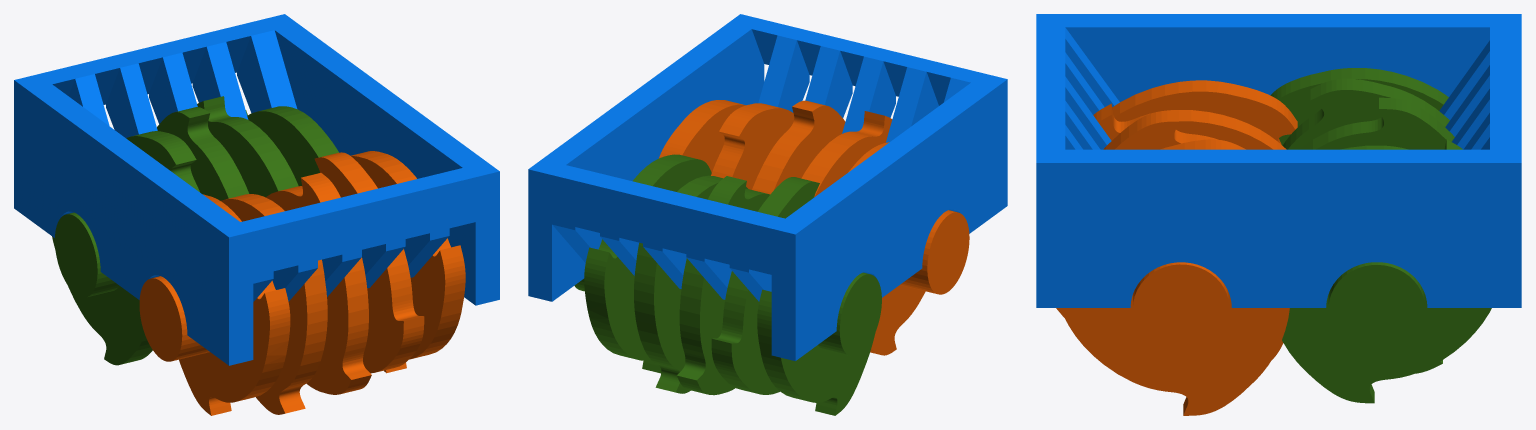
Rendered from Shredder.fbx.
3 views of the same model, side by side, from view 1: azimuth 30°, elevation 25°; view 2: azimuth 150°, elevation 25°; view 3: azimuth 270°, elevation 25° (orthographic). The views are drawn at different scales.
Parts seen in each view (by area): view 1: Box, OrangeSide, GreenSide; view 2: Box, GreenSide, OrangeSide; view 3: Box, OrangeSide, GreenSide.
Boxes of the visible parts, x1,y1,x2,y2 form: Box: (14, 14, 499, 365); OrangeSide: (139, 151, 465, 415); GreenSide: (52, 96, 338, 365); Box: (528, 14, 1007, 361); GreenSide: (574, 154, 881, 415); OrangeSide: (659, 100, 969, 355); Box: (1036, 14, 1521, 307); OrangeSide: (1056, 80, 1297, 415); GreenSide: (1270, 68, 1491, 403).
Bounding box in the file's own units: 1.24 × 1.02 × 1.68.
